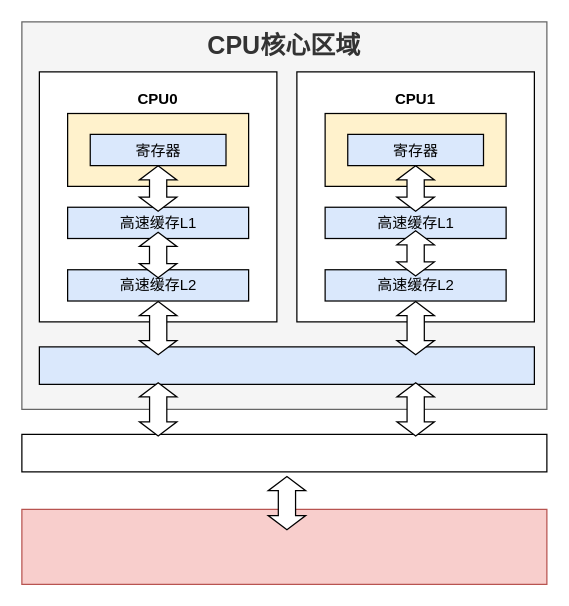
This 569x606 diagram has some shape labels left out. Here are the shapes that lost their labels. From the top down, the box of each, then its label:
(38, 346, 534, 384): 高速缓存L3
(21, 433, 547, 472): bus总线
(21, 508, 547, 584): 主存区域
